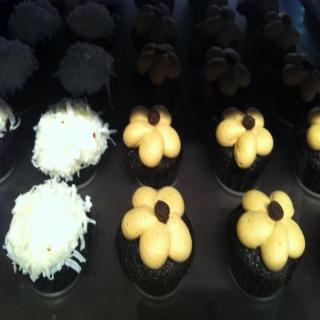Muffin: (0, 0, 320, 293)
